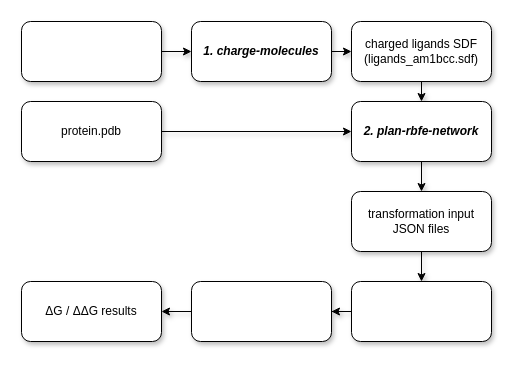
Some shapes in this 515 by 366 pixel diagram are drawn without their labels. Here are the shapes that lost their labels. From the top down, the centre of each, then its label:
(92,52): ligands.sdf
(262,312): 4. gather
(422,312): 3. quickrun
